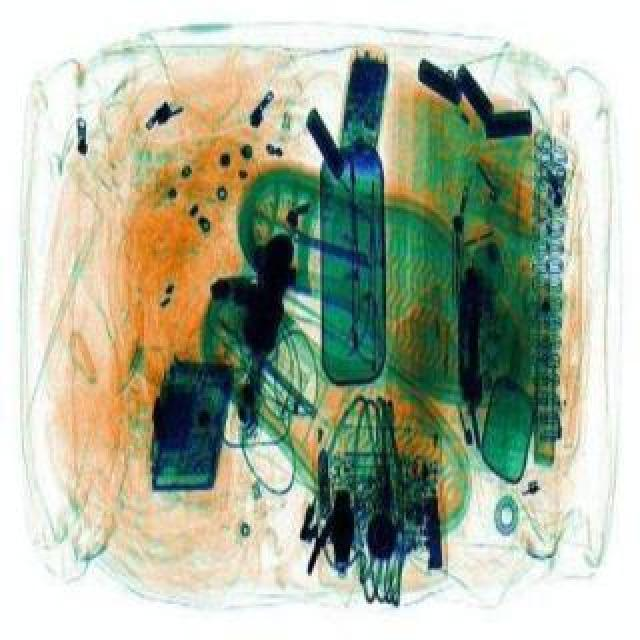gun: (208, 236, 300, 366)
